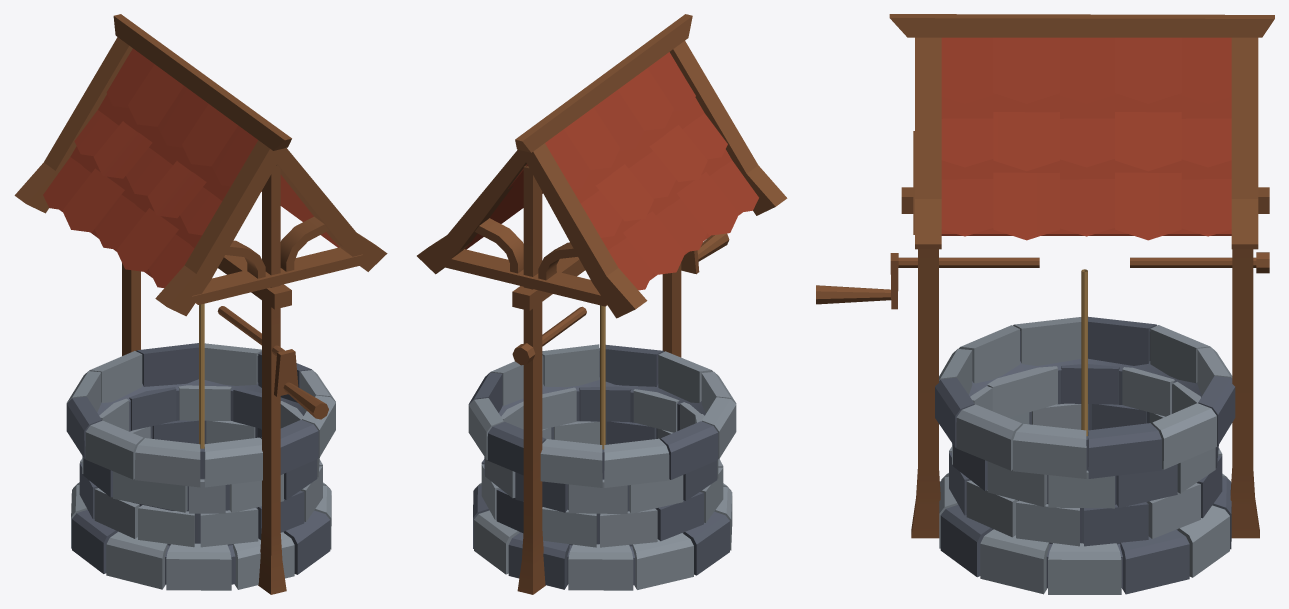
Rendered from pozo_base.obj.
The picture shows the model from 3 angles, left to right: view 1: azimuth 30°, elevation 25°; view 2: azimuth 150°, elevation 25°; view 3: azimuth 270°, elevation 25°; orthographic projection. The views are drawn at different scales.
Bounding box in the file's own units: 0.6625 × 1.25 × 1.
5 materials, 5 textured.
